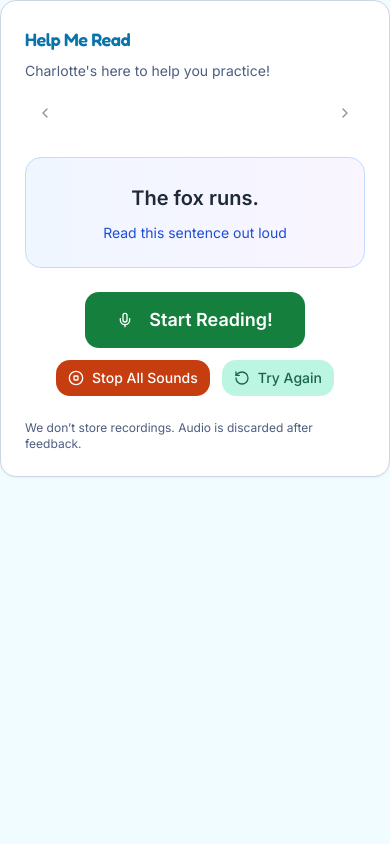
Test case: read-aloud practice and the child's voice › the count shown is the server's, not this browser's
The image size is (390, 844).
Click the button "Start Reading!": (195, 320) [85,292,305,348]
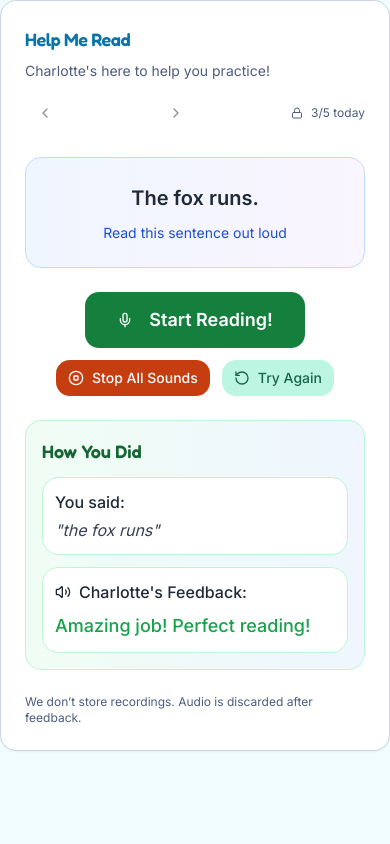
Check: the element with test id "coach-count" shows "3/5", box [287,105,365,121]
